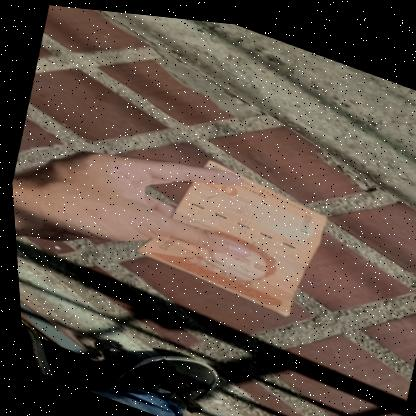vef_front: (123, 134, 334, 320)
